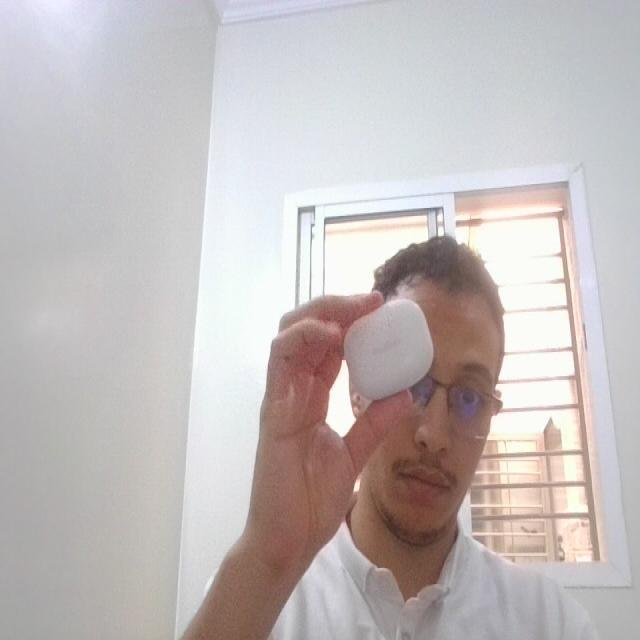airpods: (341, 292, 437, 407)
